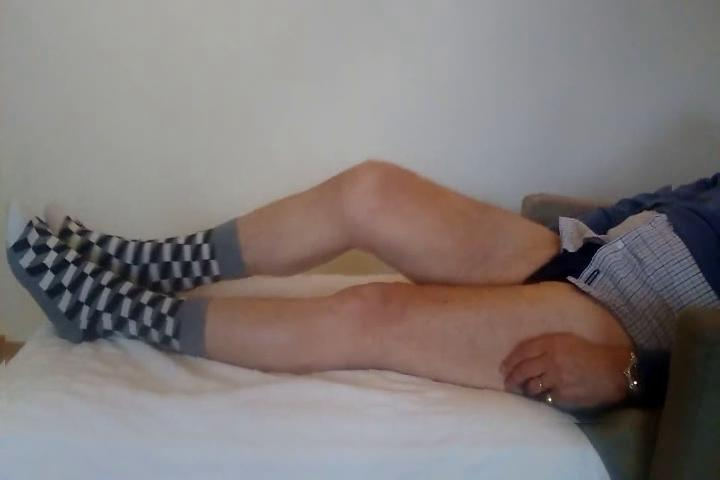lower_body: (4, 150, 676, 431)
